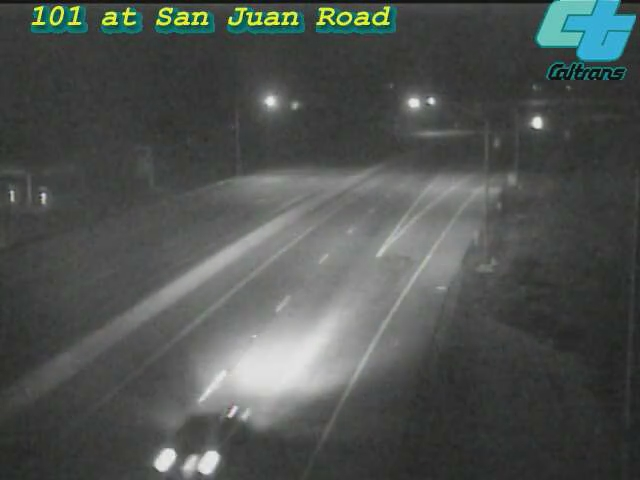vehicle: (146, 385, 256, 480), (512, 99, 562, 149)
